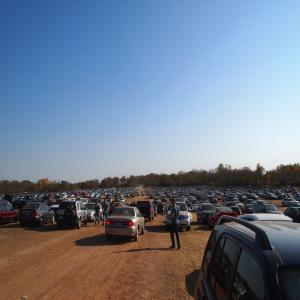Vehicle-registration-plate: (117, 223, 123, 228)
